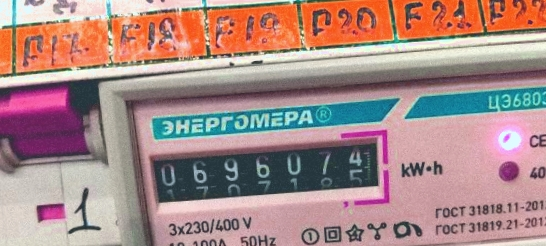0: (157, 160, 178, 187), (284, 149, 303, 176)
4: (346, 144, 363, 167)
5: (347, 166, 365, 188)
6: (252, 151, 272, 179), (189, 157, 209, 183)
7: (316, 148, 334, 175)
9: (221, 154, 239, 181)
screen: (138, 126, 396, 223)
